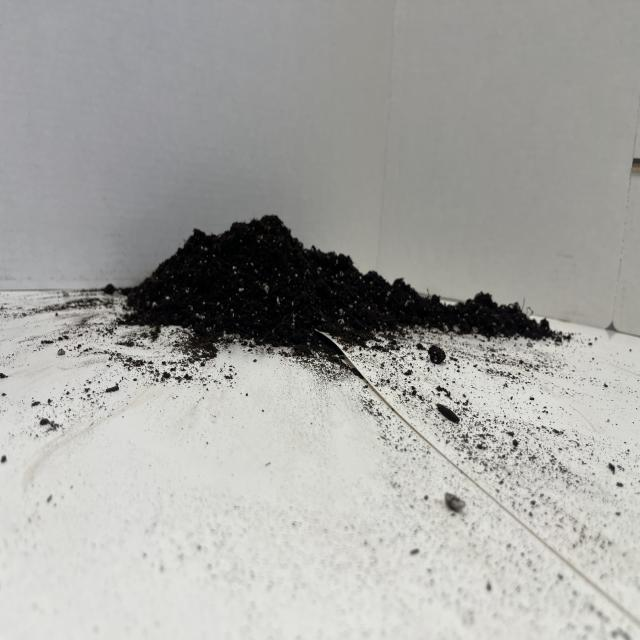soil: (115, 211, 568, 355)
